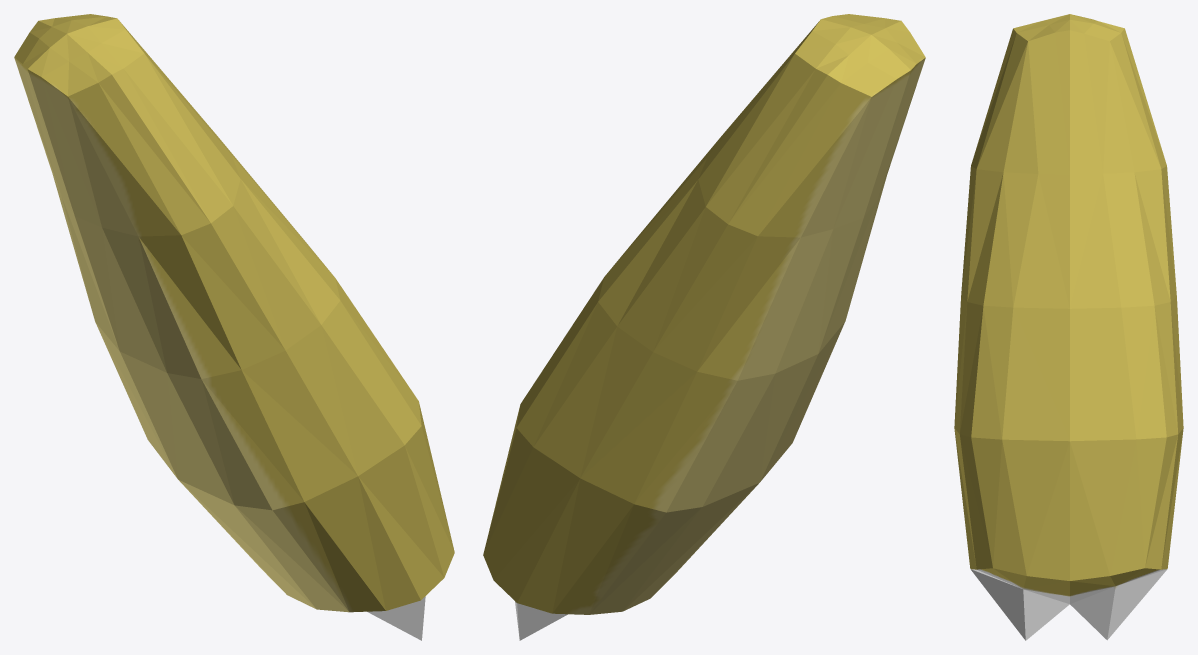
File: float_L_arm_E.obj
3 renders of one model, left to right at view 1: azimuth 30°, elevation 25°; view 2: azimuth 150°, elevation 25°; view 3: azimuth 270°, elevation 25°, orthographic. The views are drawn at different scales.
Parts seen in each view (by area): view 1: 立方体.003; view 2: 立方体.003; view 3: 立方体.003.
Boxes of the visible parts, x1,y1,x2,y2 form: 立方体.003: (14,14,454,640); 立方体.003: (483,14,925,640); 立方体.003: (954,14,1183,640).
Bounding box in the file's own units: 0.8923 × 1.43 × 0.5828.
